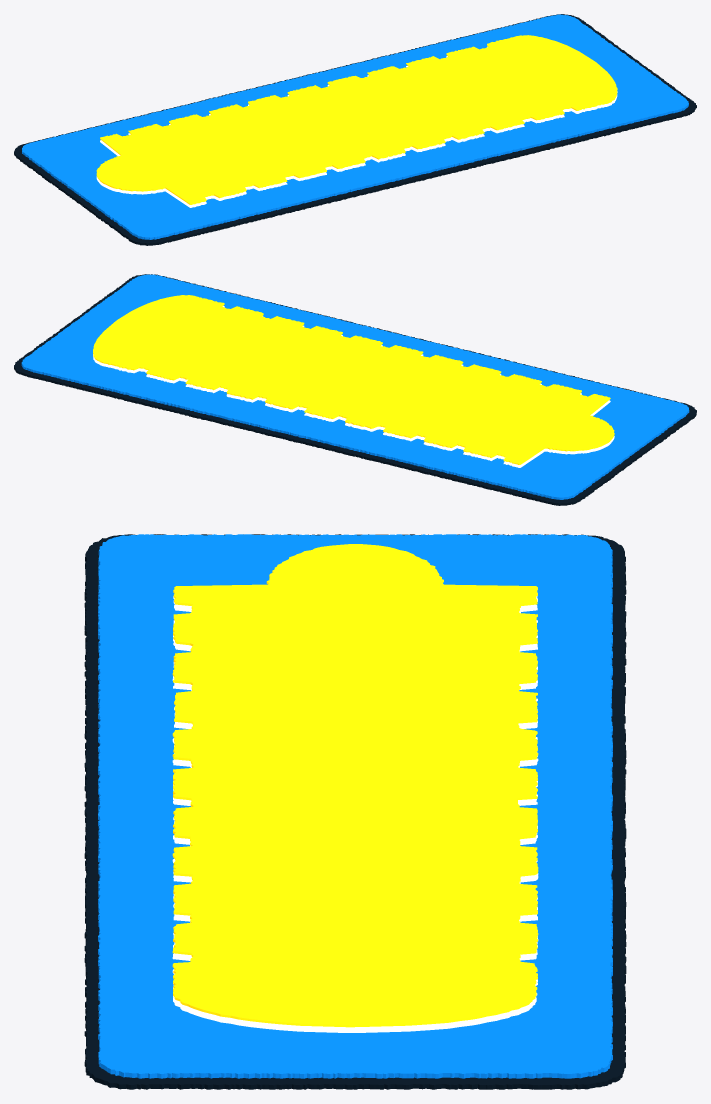
The model's file is ichiban-crayon.glb.
3 views of the same model, one above another, from view 1: azimuth 30°, elevation 25°; view 2: azimuth 150°, elevation 25°; view 3: azimuth 270°, elevation 25° (orthographic). The views are drawn at different scales.
Visible parts, largest first — view 1: Peel_strip, Ticket_blue_frame, Ticket_ink_outline, White_inner_paper; view 2: Peel_strip, Ticket_blue_frame, Ticket_ink_outline, White_inner_paper; view 3: Peel_strip, Ticket_blue_frame, Ticket_ink_outline, White_inner_paper.
Boxes of the visible parts, box(x1,y1,x2,y2) form: Peel_strip: box(96, 35, 617, 204); Ticket_blue_frame: box(22, 14, 688, 239); Ticket_ink_outline: box(14, 14, 696, 245); White_inner_paper: box(96, 46, 617, 207); Peel_strip: box(93, 295, 614, 464); Ticket_blue_frame: box(21, 274, 689, 499); Ticket_ink_outline: box(14, 274, 696, 505); White_inner_paper: box(93, 306, 614, 467); Peel_strip: box(172, 544, 538, 1027); Ticket_blue_frame: box(98, 534, 612, 1078); Ticket_ink_outline: box(84, 534, 626, 1089); White_inner_paper: box(172, 596, 538, 1032).
Size of the model in its own units: 6.41 by 0.125 by 2.66.
